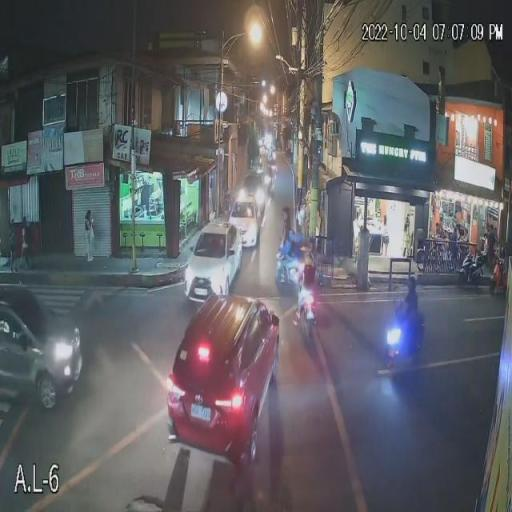helmet: (403, 272, 419, 294), (303, 251, 317, 270)
motorcycle: (374, 308, 434, 368), (294, 278, 320, 342)
rider: (397, 266, 424, 334), (297, 241, 326, 297)
